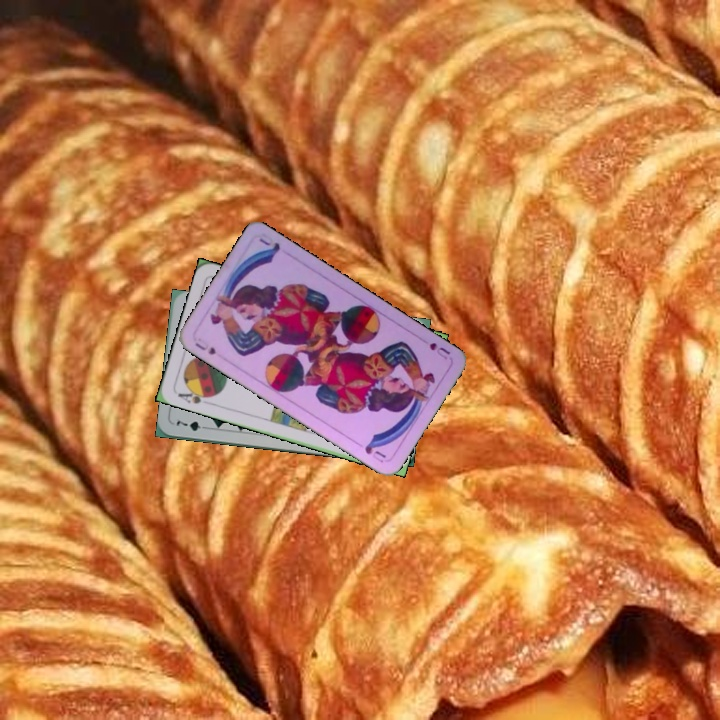G7: (172, 415, 212, 434)
SA: (173, 385, 215, 407)
SU: (191, 333, 219, 359), (425, 338, 453, 362)
